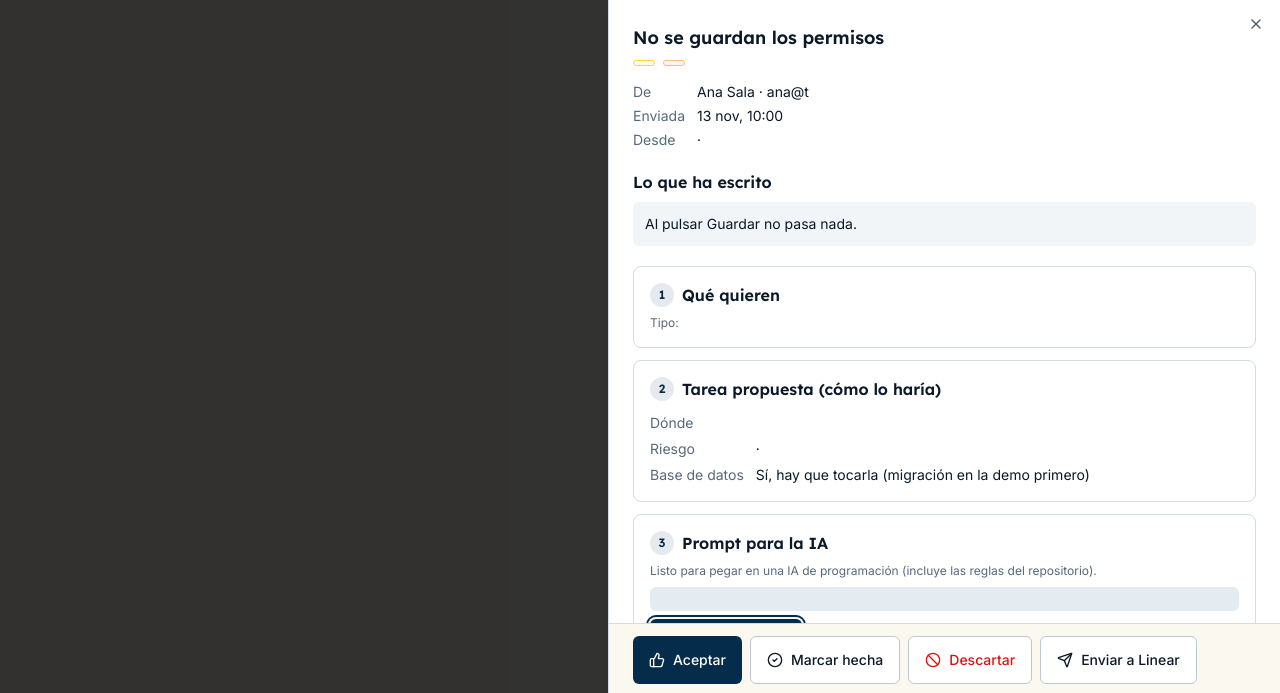
Test case: DetalleTicket › Descartar pide un motivo (lo verá quien la envió) y no deja sin él
Later steps or results of the test are not shown.
Click the button "Descartar". click: (970, 660)
box: [908,636,1032,684]
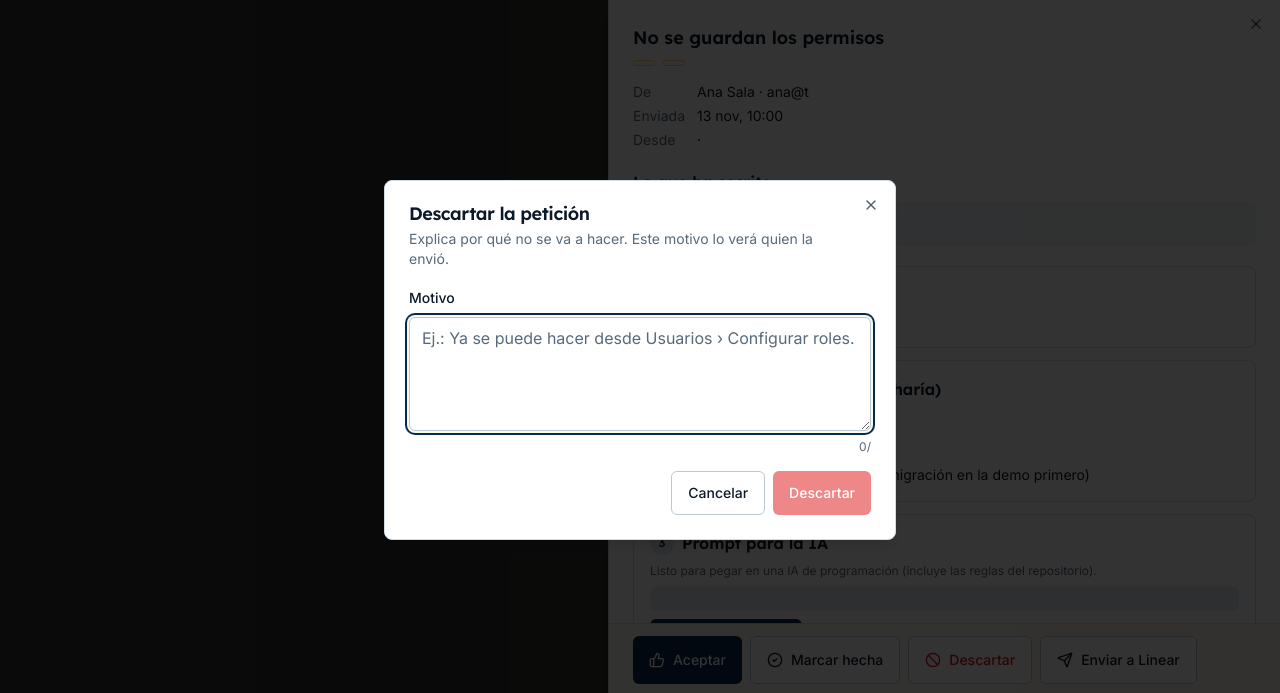
Now the text "Este motivo lo verá quien la envió" is shown, box [409,230,813,267]
Now the button "Descartar" is disabled, box [773,471,871,515]
Type "Ya se puede hacer en Configuración." into the text box labelled "Motivo". click: (640, 374)
box: [409,317,871,431]
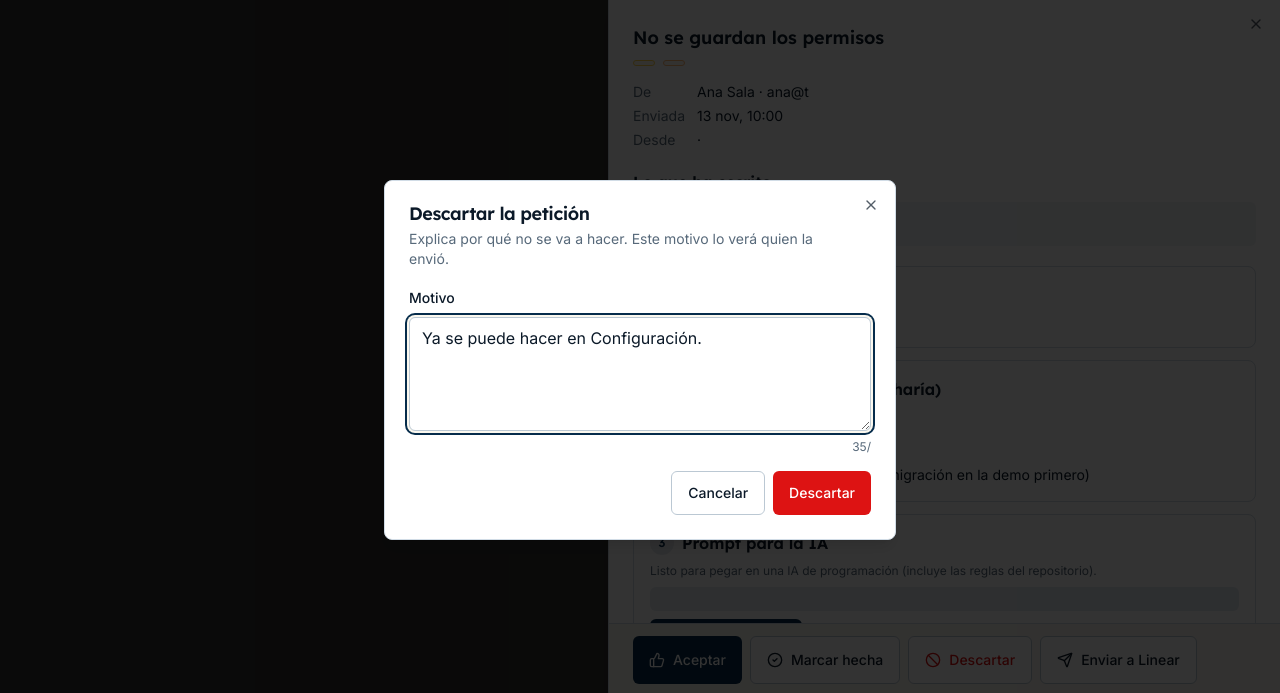
Now the button "Descartar" is enabled, box [773,471,871,515]
